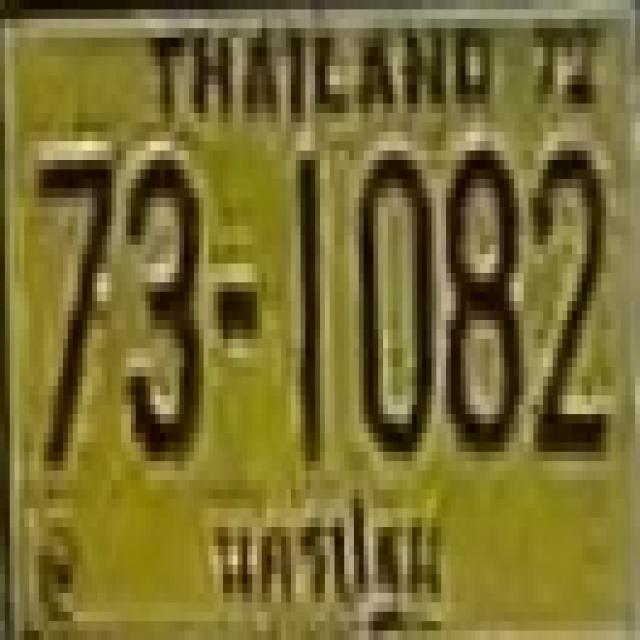0: (354, 141, 431, 452)
1: (294, 151, 318, 461), (296, 151, 320, 461)
2: (531, 137, 604, 447)
3: (121, 150, 199, 452)
7: (34, 146, 111, 456)
8: (441, 142, 519, 442)
NPT: (202, 493, 449, 633)
